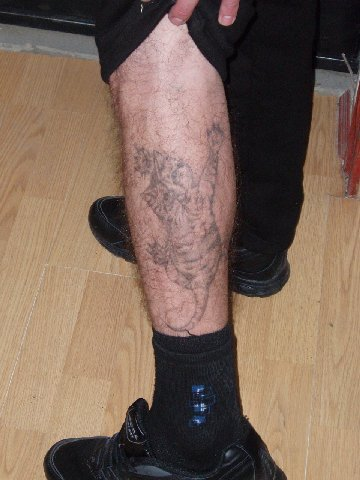tatu8_kot: (121, 108, 232, 328)
